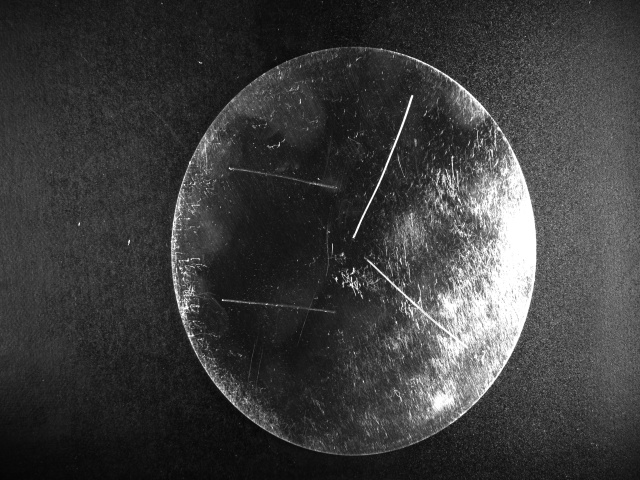ca_shang: (361, 254, 470, 349), (350, 94, 416, 244), (217, 287, 340, 320), (224, 164, 341, 193)
